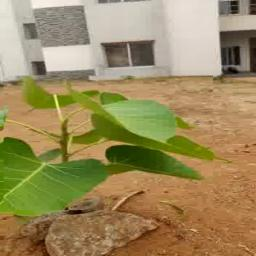LEAVS: (4, 76, 214, 211)
